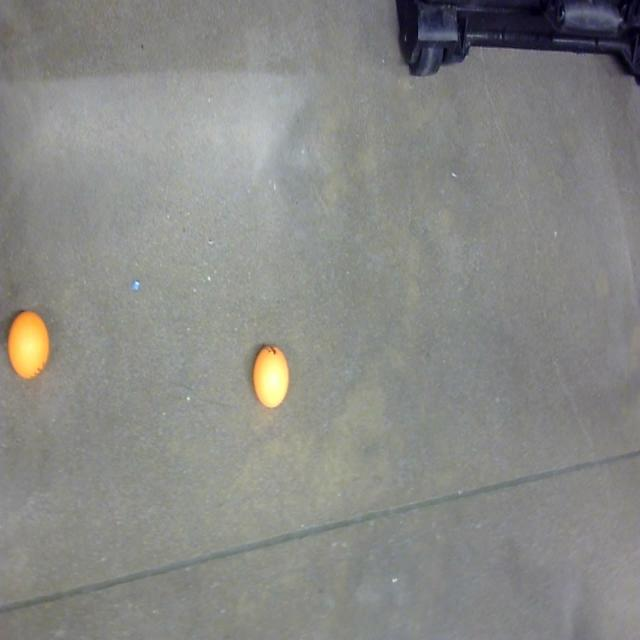ball: (6, 304, 52, 384), (252, 338, 293, 412)
